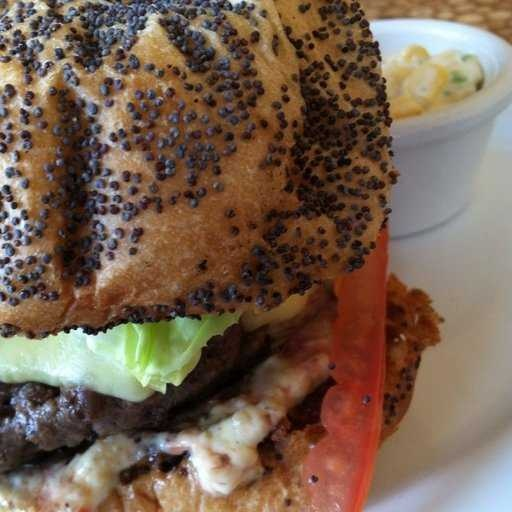hamburger: (1, 1, 426, 511)
